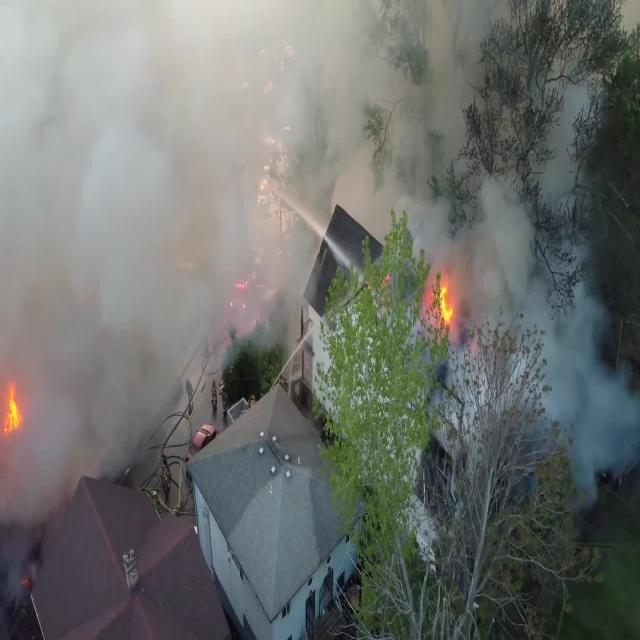Fire: (418, 276, 456, 345), (0, 378, 26, 445)
Smoke: (295, 0, 640, 520), (2, 0, 292, 530)
